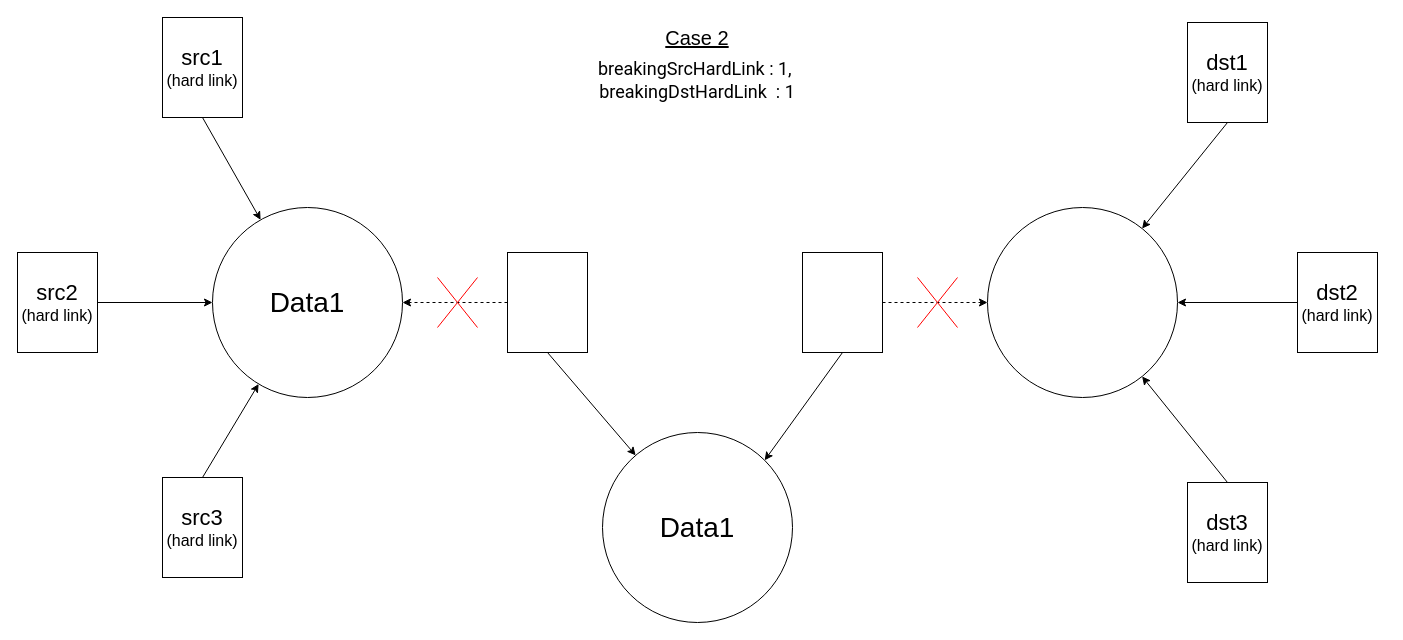
Image size: 1403x640. Some labels were removed from this diagram. The centre of each missing label's shape, as x and y in pixels:
"Data2" belongs at (x=1082, y=302).
"dst (hard link)" belongs at (x=842, y=302).
"src (hard link)" belongs at (x=547, y=302).
